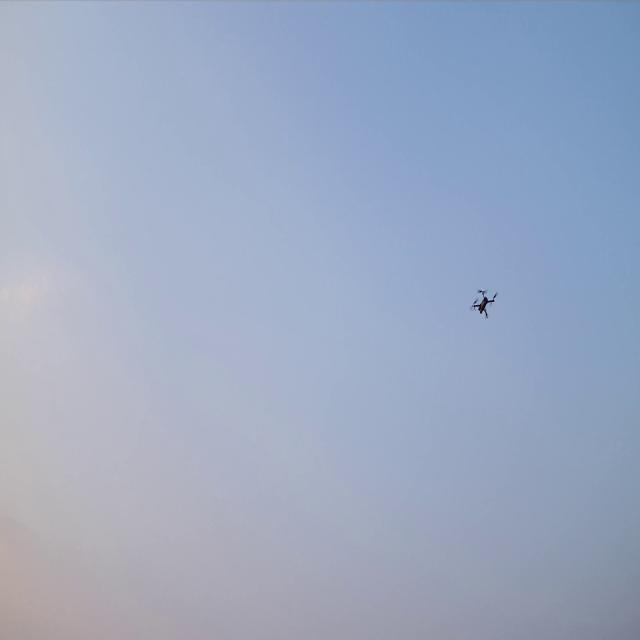UAV: (468, 284, 499, 324)
